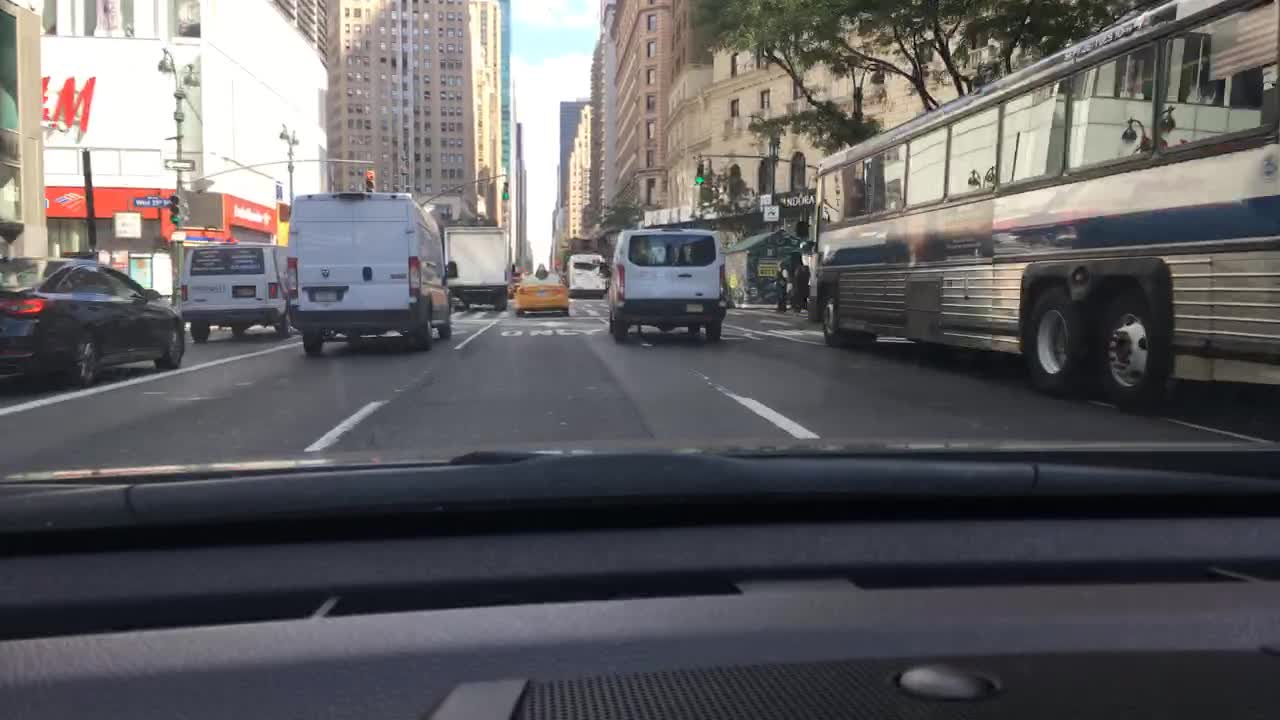bus: (791, 0, 1278, 407)
car: (1, 252, 186, 389), (604, 219, 727, 340), (178, 237, 297, 347), (513, 259, 570, 317), (561, 252, 607, 299)
person: (787, 254, 812, 315), (770, 257, 796, 312)
traffic light: (166, 191, 180, 222), (693, 163, 705, 187), (364, 167, 376, 190), (500, 179, 511, 202)
traffic sign: (111, 211, 142, 238), (163, 157, 194, 171), (763, 205, 780, 221), (759, 194, 771, 211)
truck: (283, 189, 459, 354), (442, 222, 509, 311)
